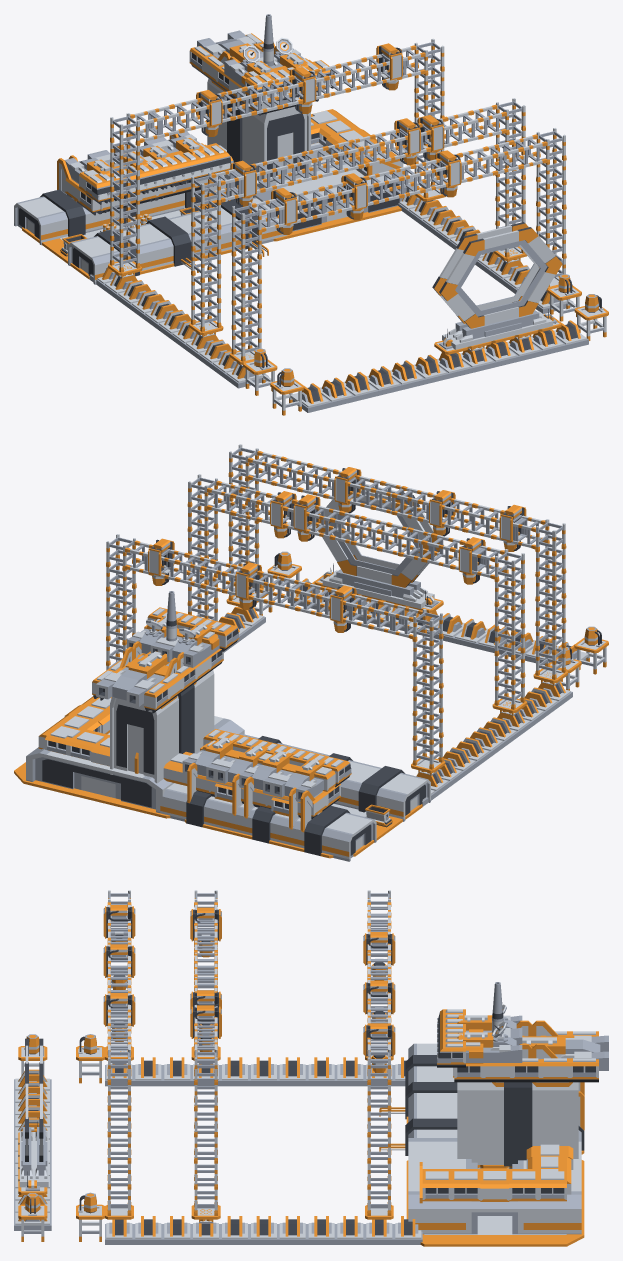
The model's file is chantier_lourd.glb.
3 views of the same model, one above another, from view 1: azimuth 30°, elevation 25°; view 2: azimuth 150°, elevation 25°; view 3: azimuth 270°, elevation 25° (orthographic). The views are drawn at different scales.
Visible parts, largest first — view 1: mergedBlocks(Clone); view 2: mergedBlocks(Clone); view 3: mergedBlocks(Clone).
Part boxes in pixels (bbox=[...]): mergedBlocks(Clone): bbox=[14, 14, 608, 415]; mergedBlocks(Clone): bbox=[14, 444, 608, 861]; mergedBlocks(Clone): bbox=[14, 890, 608, 1246].
Bounding box in the file's own units: 14.5 × 7.6 × 20.6.
Materials: 1 (1 with a texture image).
